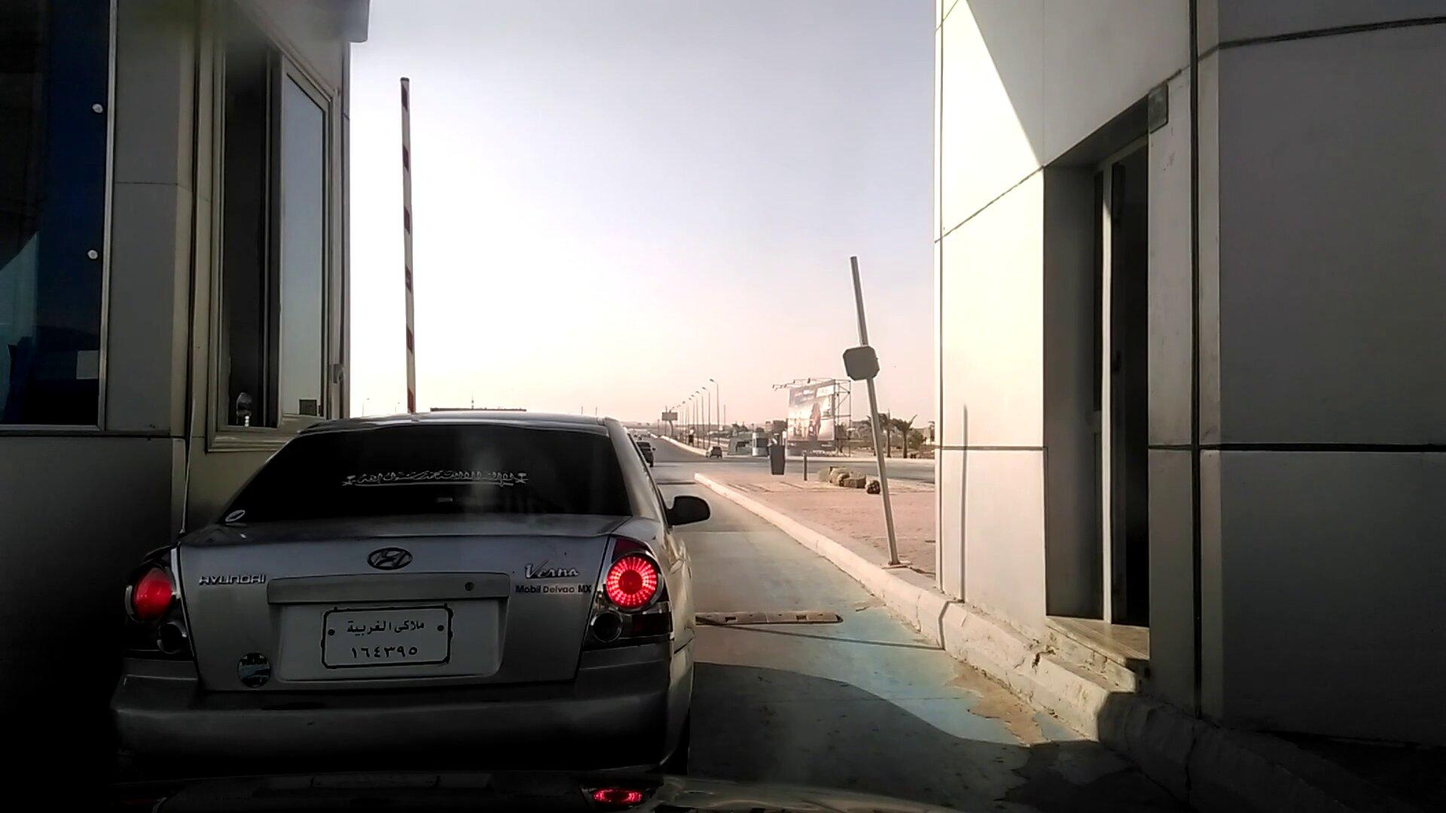Bump: (688, 601, 846, 627)
